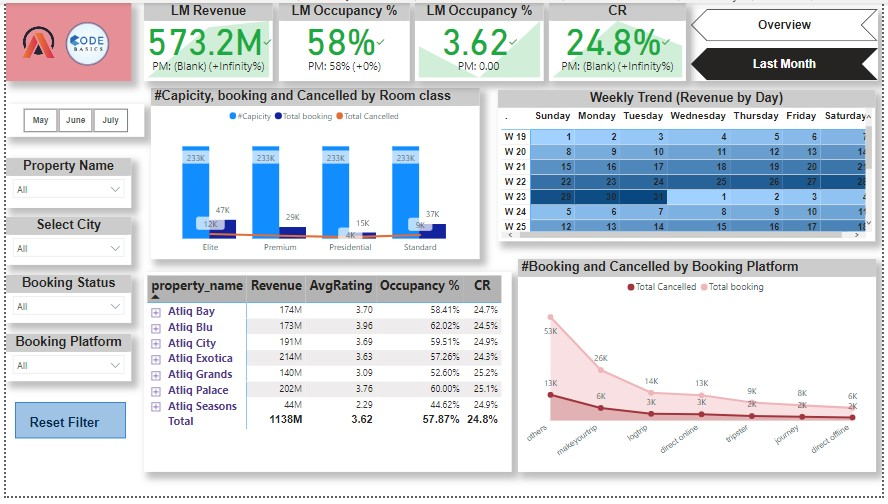

This screenshot's page, from the dashboard's own definition file:
{"tool":"powerbi","page":{"name":"Last Month","canvas":[1280,720],"ordinal":1},"visuals":[{"type":"slicer","title":"Property Name","fields":{"Values":["dim_hotels.property_name"]},"box":[0,226.6,182.5,73.3],"z":0},{"type":"slicer","title":"Select City","fields":{"Values":["dim_hotels.city"]},"box":[0,312.9,182.5,70.4],"z":1000},{"type":"slicer","title":"Booking Status","fields":{"Values":["fact_bookings.booking_status"]},"box":[0,397.6,182.5,70.4],"z":2000},{"type":"slicer","title":"Select Month","fields":{"Values":["dim_date.Month"]},"box":[0,147.5,201.5,48.2],"z":3000},{"type":"slicer","title":"Booking Platform","fields":{"Values":["fact_bookings.booking_platform"]},"box":[0,483.9,182.5,69],"z":4000},{"type":"shape","box":[0,0,182.5,113.5],"z":5000},{"type":"image","title":"atliq","box":[6.1,21.1,77.6,73.8],"z":6000},{"type":"image","title":"codebasics","box":[76.2,21.1,85.2,77.6],"z":7000},{"type":"pageNavigator","box":[1000.4,8.8,273.1,105.2],"z":8000},{"type":"textbox","box":[29.2,596.8,136.5,38.8],"z":9000},{"type":"shape","box":[13.4,582.4,162.4,53.2],"z":10000},{"type":"lineClusteredColumnComboChart","title":"#Capicity, booking and Cancelled by Room class","fields":{"Category":["dim_rooms.room_class"],"Y":["metrics_list.Total capicity","metrics_list.Total booking"],"Y2":["metrics_list.Total Cancelled"]},"box":[211.8,124.1,480.5,249.7],"z":11000},{"type":"pivotTable","fields":{"Rows":["dim_hotels.property_name","dim_hotels.city"],"Values":["All Measure .LM_Revenue","All Measure .LM AvgRating","All Measure .LM Occupancy %","All Measure .Cancellation rate"]},"box":[201.5,392.9,537.4,292.1],"z":12000},{"type":"areaChart","title":"#Booking and Cancelled by Booking Platform","fields":{"Category":["fact_bookings.booking_platform"],"Y":["metrics_list.Total Cancelled","metrics_list.Total booking"]},"box":[747.7,373.9,522.8,311.1],"z":13000},{"type":"kpi","title":"LM Revenue","fields":{"Indicator":["metrics_list.Revenue"],"TrendLine":["dim_date.Month"],"Goal":["metrics_list.LM_Revenue"]},"box":[201.5,0,188.4,113.9],"z":14000},{"type":"kpi","title":"LM Occupancy %","fields":{"TrendLine":["dim_date.Month"],"Indicator":["metrics_list.Total Occupancy %"],"Goal":["metrics_list.LM Occupancy %"]},"box":[398.7,0,191.3,113.9],"z":15000},{"type":"kpi","title":"LM Occupancy %","fields":{"TrendLine":["dim_date.Month"],"Goal":["metrics_list.LM AvgRating"],"Indicator":["metrics_list.Avg_Rating"]},"box":[597.3,0,188.4,113.9],"z":16000},{"type":"kpi","title":"CR","fields":{"TrendLine":["dim_date.Month"],"Indicator":["metrics_list.Cancellation rate"],"Goal":["metrics_list.LM CR"]},"box":[793,0,200.1,113.9],"z":17000},{"type":"pivotTable","title":"Weekly Trend (Revenue by Day)","fields":{"Rows":["dim_date.week no"],"Columns":["DaysName.DayNames"],"Values":["Sum(dim_date.Days)"]},"box":[718.5,127.1,550.6,220.5],"z":18000}]}

Visuals, with their boxes in screenshot pixels (x1, y1, x2, y2), scaled from the page's 1280x720 canvas onto the 888x504 screenshot:
"Property Name" slicer: 0:159:127:210
"Select City" slicer: 0:219:127:268
"Booking Status" slicer: 0:278:127:328
"Select Month" slicer: 0:103:140:137
"Booking Platform" slicer: 0:339:127:387
shape: 0:0:127:79
"atliq" image: 4:15:58:66
"codebasics" image: 53:15:112:69
pageNavigator: 694:6:883:80
textbox: 20:418:115:445
shape: 9:408:122:445
"#Capicity, booking and Cancelled by Room class" lineClusteredColumnComboChart: 147:87:480:262
pivotTable - dim_hotels.property_name x dim_hotels.city: 140:275:513:479
"#Booking and Cancelled by Booking Platform" areaChart: 519:262:881:479
"LM Revenue" kpi: 140:0:270:80
"LM Occupancy %" kpi: 277:0:409:80
"LM Occupancy %" kpi: 414:0:545:80
"CR" kpi: 550:0:689:80
"Weekly Trend (Revenue by Day)" pivotTable: 498:89:880:243
